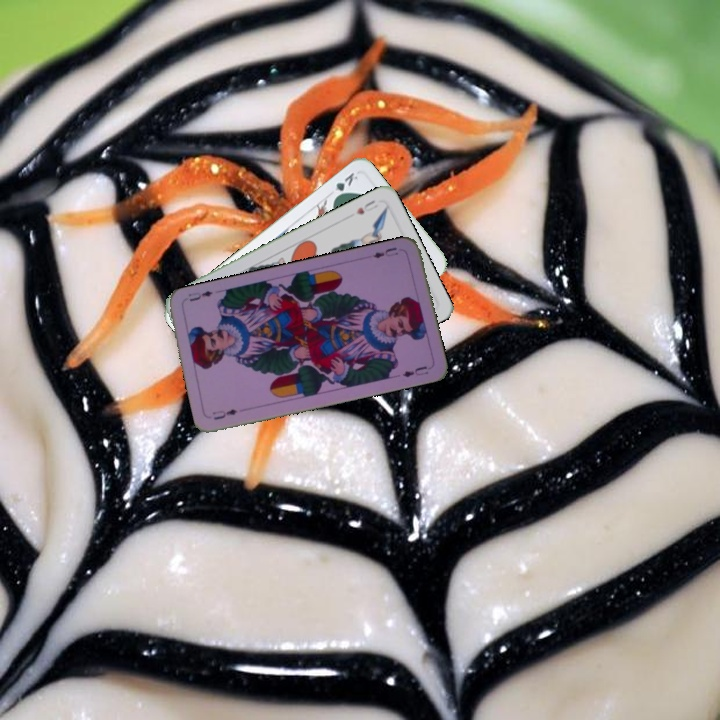EU: (369, 243, 401, 261), (208, 405, 240, 422)
GK: (329, 168, 360, 202)
HU: (351, 196, 381, 217)
